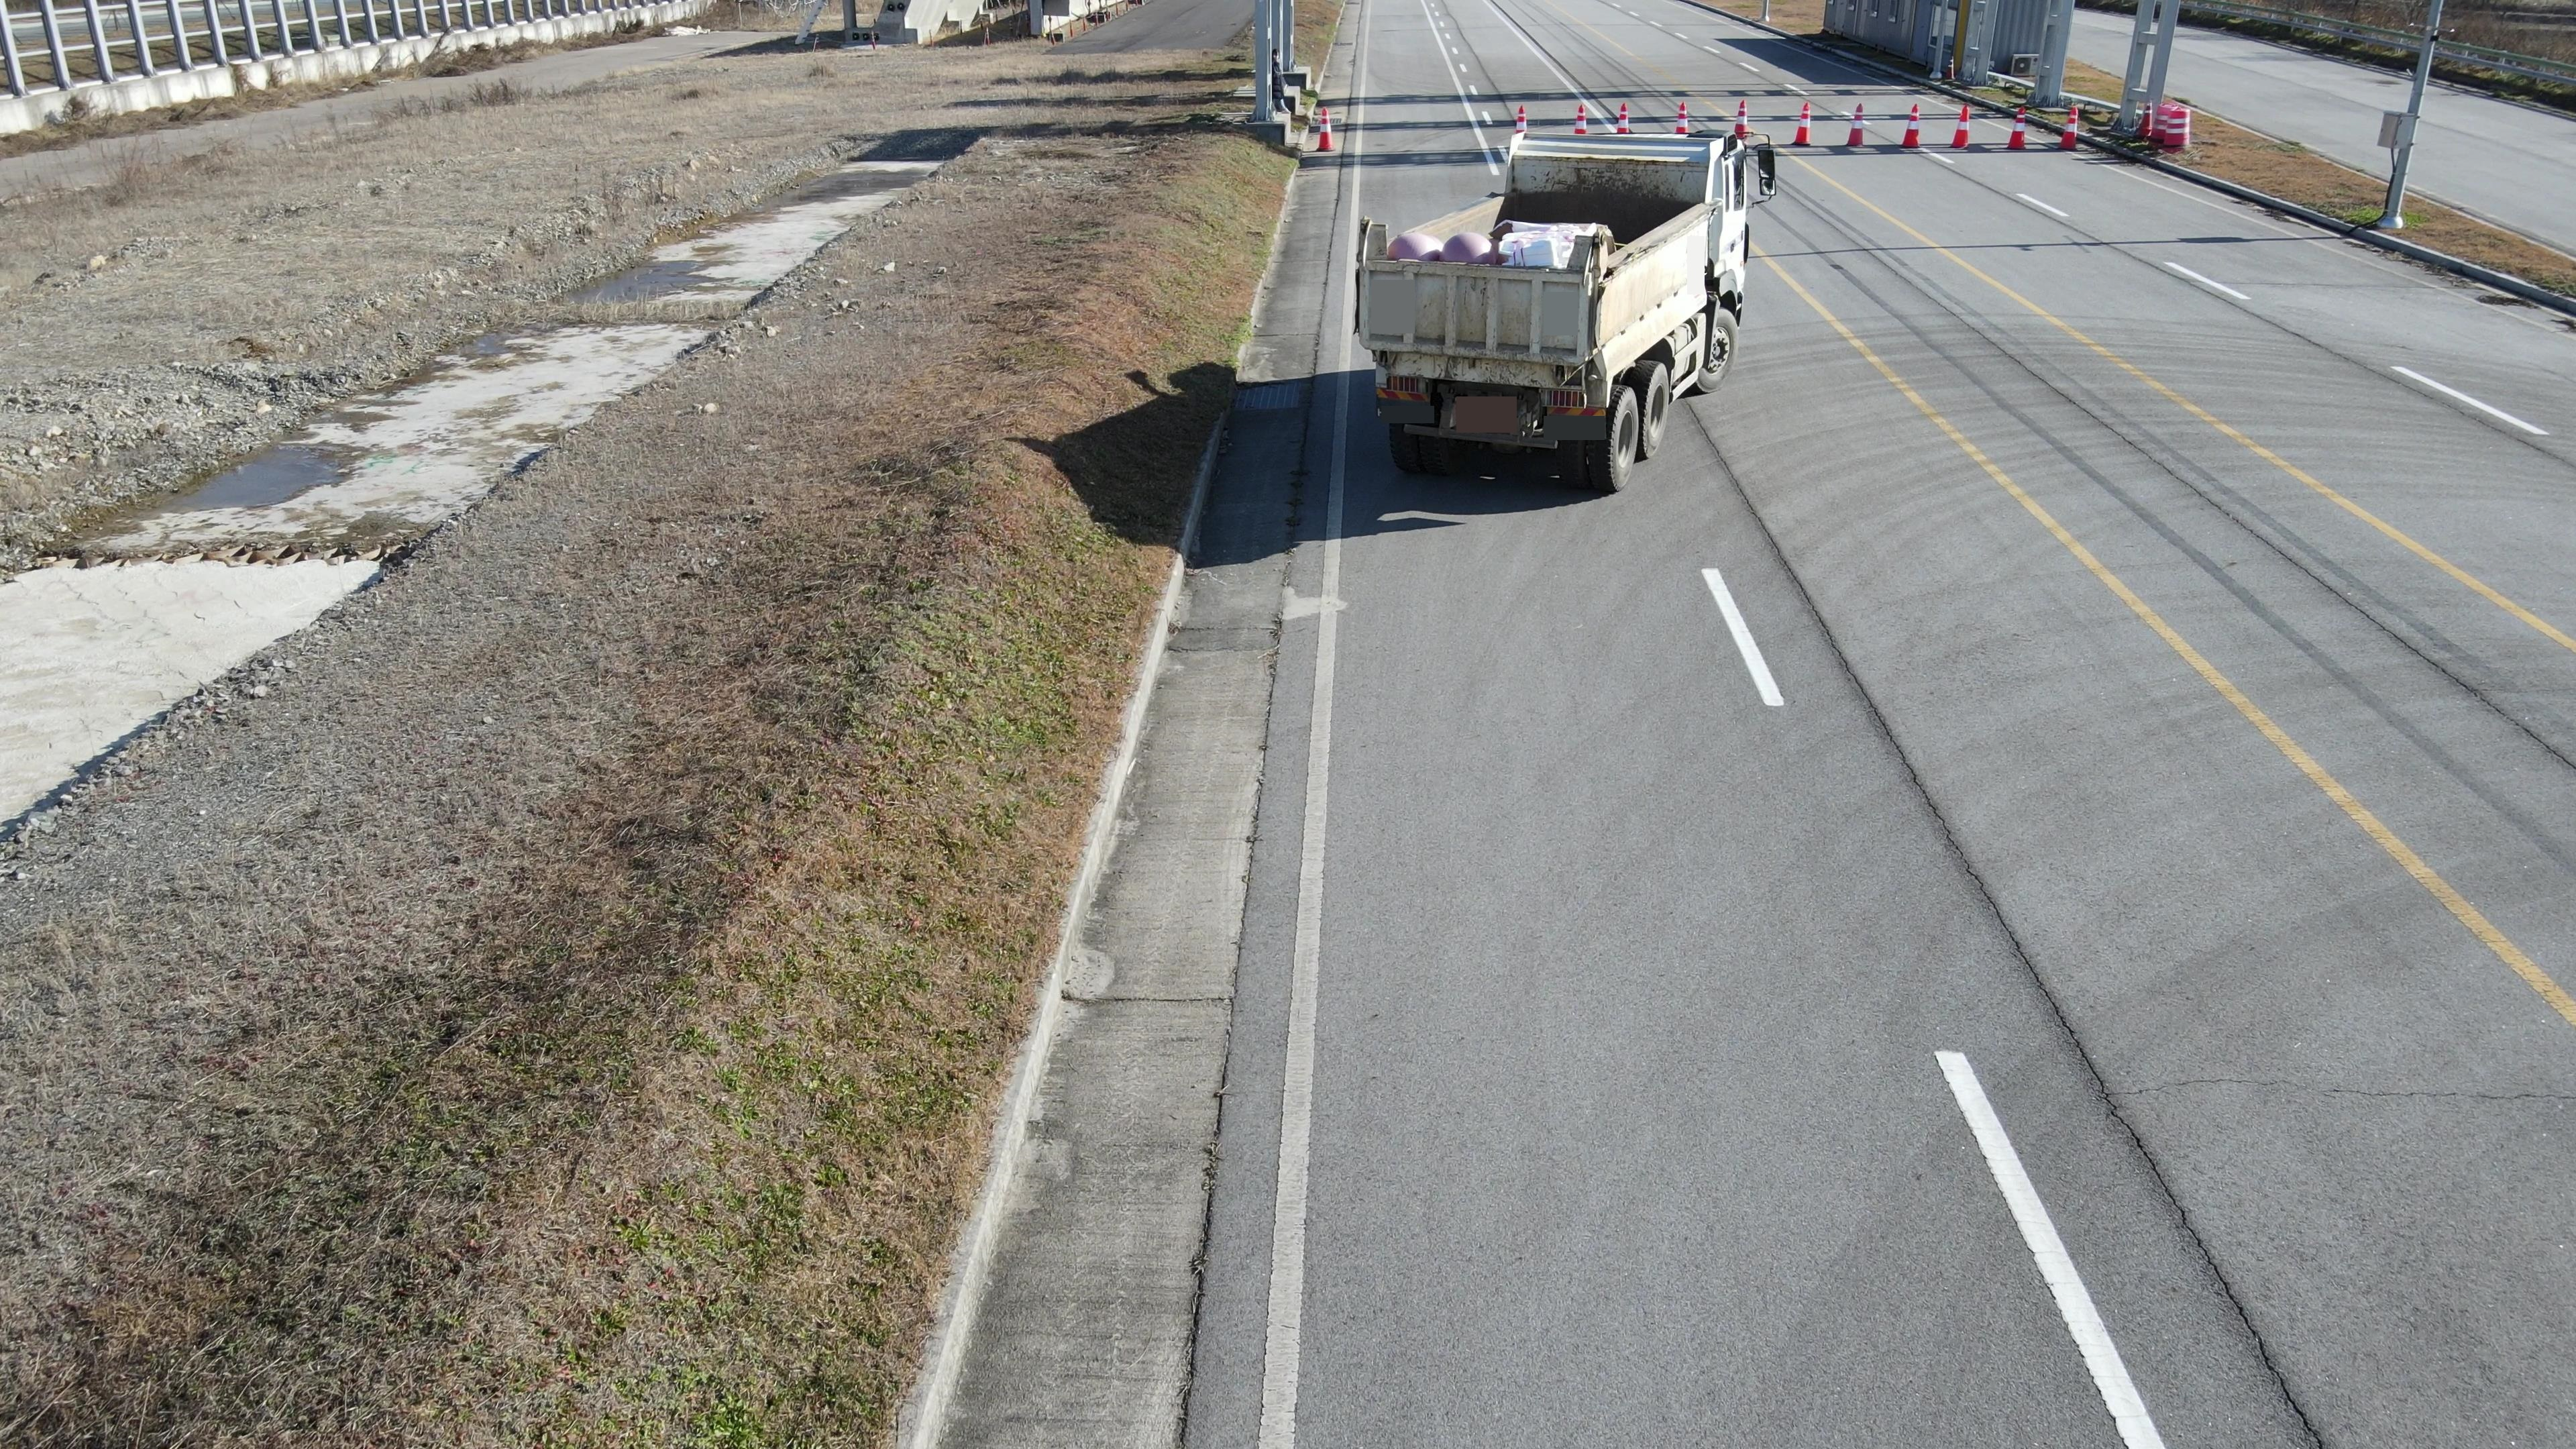불법차량: (1351, 130, 1777, 493)
